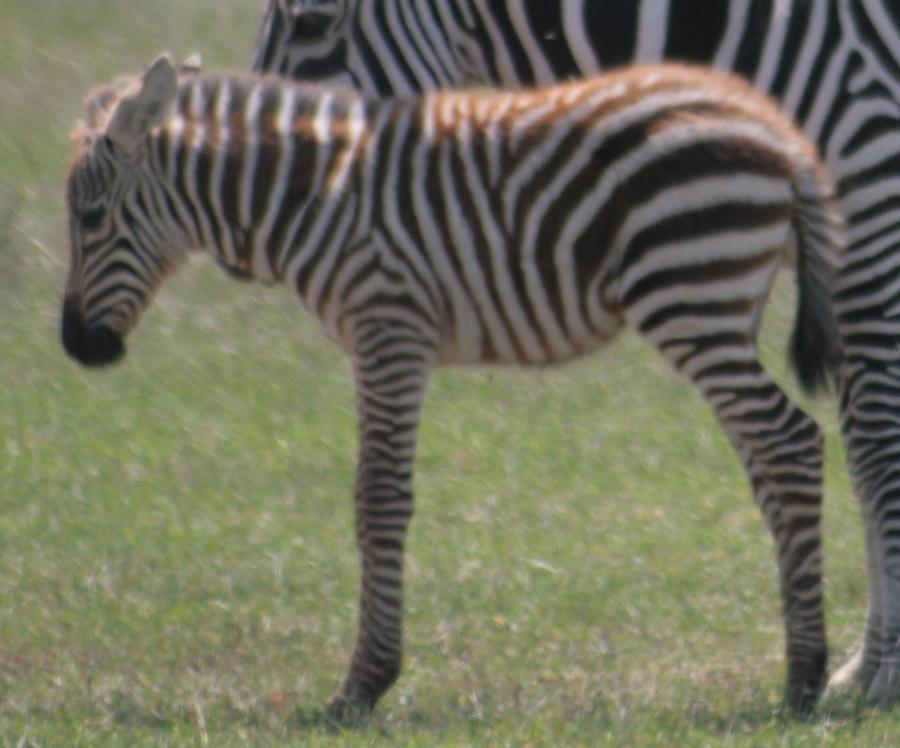zebra_plains: (243, 61, 827, 409)
